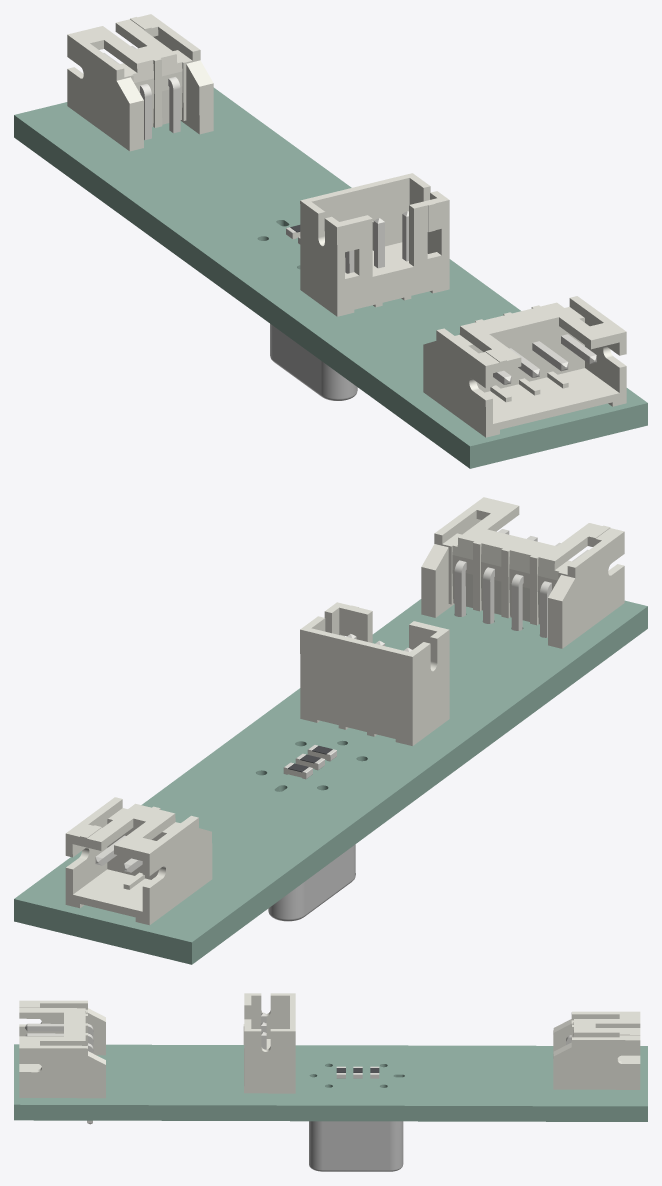
File: Touch Activated Compact 3.7v Rechargable LED PCB with Indicator Lighting.glb
3 renders of one model, top to bottom at view 1: azimuth 30°, elevation 25°; view 2: azimuth 150°, elevation 25°; view 3: azimuth 270°, elevation 25°, orthographic. The views are drawn at different scales.
Visible parts, largest first — view 1: Compact Rechargable 3.7v LED with Indicator Light_PCB v3 RES; view 2: Compact Rechargable 3.7v LED with Indicator Light_PCB v3 RES; view 3: Compact Rechargable 3.7v LED with Indicator Light_PCB v3 RES.
Boxes of the visible parts, x1=… form: Compact Rechargable 3.7v LED with Indicator Light_PCB v3 RES: x1=14, y1=14, x2=647, y2=468; Compact Rechargable 3.7v LED with Indicator Light_PCB v3 RES: x1=14, y1=497, x2=647, y2=964; Compact Rechargable 3.7v LED with Indicator Light_PCB v3 RES: x1=14, y1=993, x2=647, y2=1171.
Bounding box in the file's own units: 1.25 × 1.49 × 5.55.
